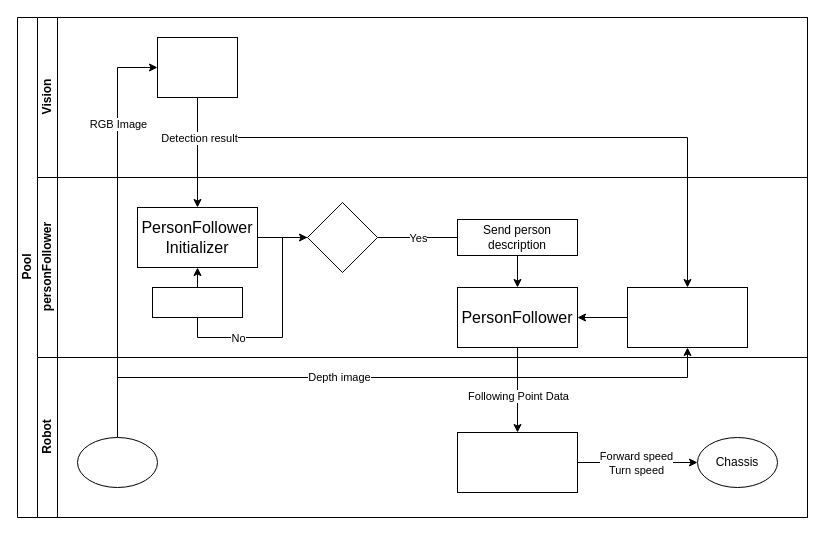
Image size: 825x535. Some labels were removed from this diagram. The shapes that lost their labels are listed below. From the top down, each one's centre as x and y in pixels, then its label:
point 342,237: If initialized
point 197,302: Continue find pereson
point 687,317: Time Synchronizer
point 117,462: Camera
point 517,462: PersonFollower robot handler
